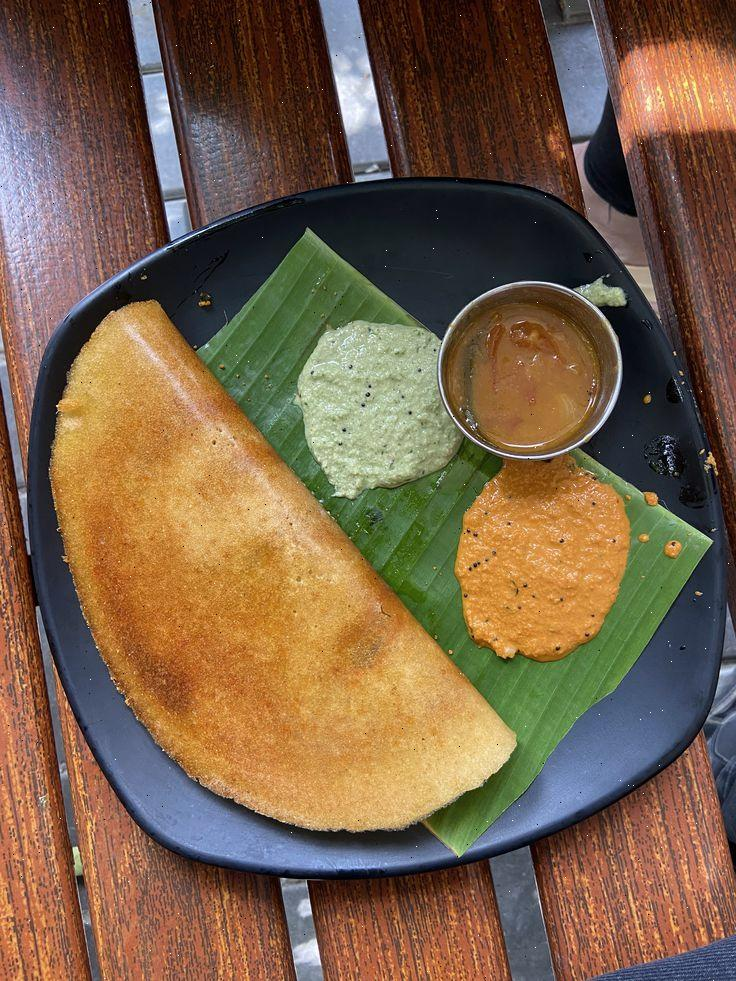dosa: (37, 312, 525, 834)
